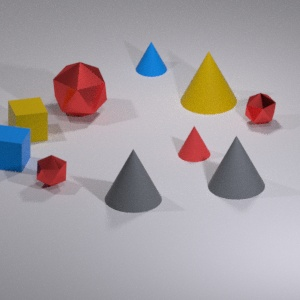lapphuong: (3, 97, 53, 141), (0, 121, 32, 175)
lucgiac: (52, 57, 109, 115), (34, 151, 73, 193), (244, 89, 279, 128)
non: (178, 47, 240, 118), (102, 147, 162, 216), (208, 133, 269, 197), (172, 124, 211, 162), (134, 41, 169, 79)
